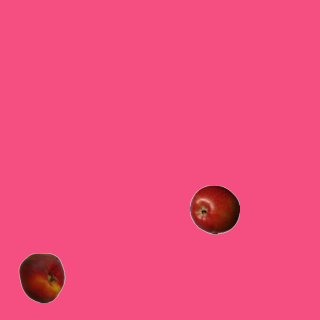Apple Braeburn: (189, 184, 239, 234)
Nectarine Flat: (16, 252, 66, 302)
